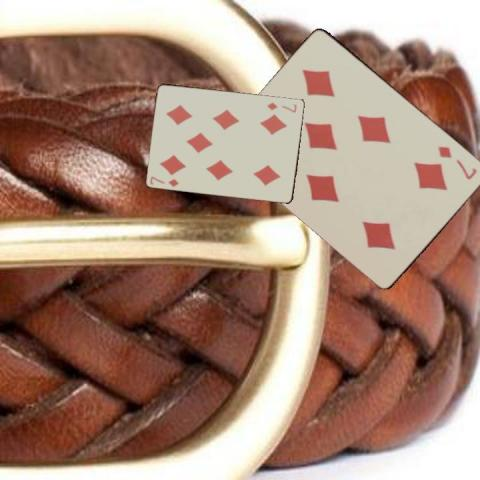7d: (435, 143, 479, 181), (264, 99, 298, 114), (147, 173, 181, 188)
